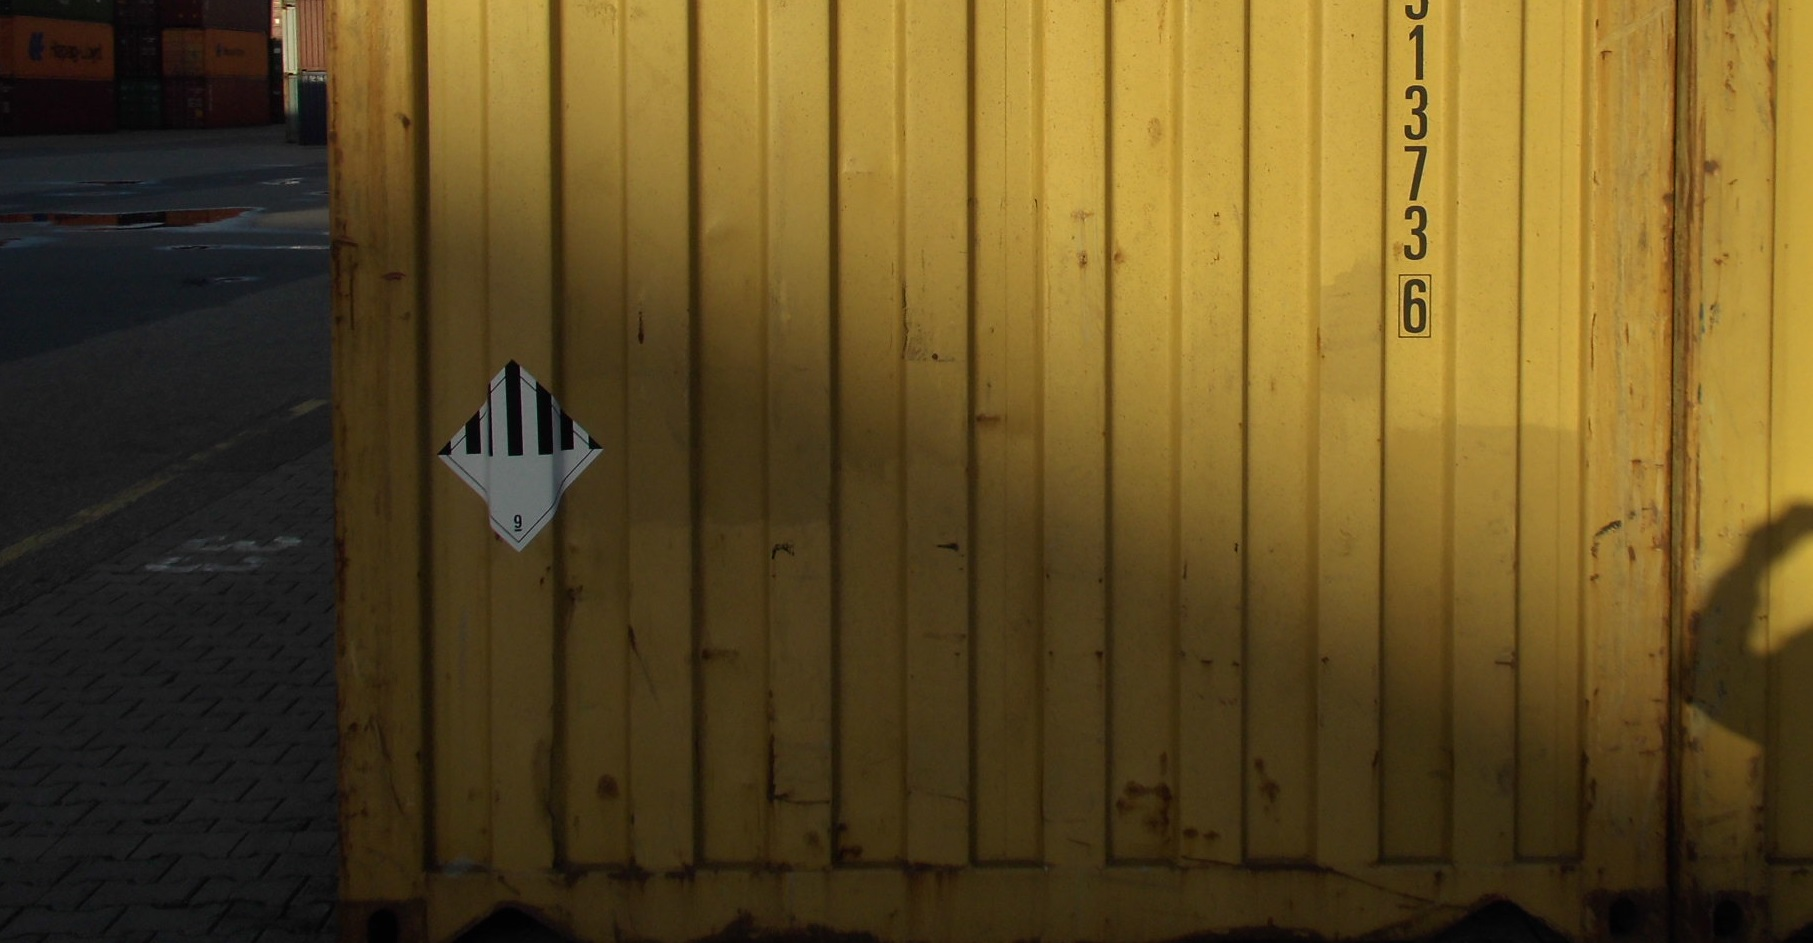container_no_door: (343, 4, 1669, 921)
